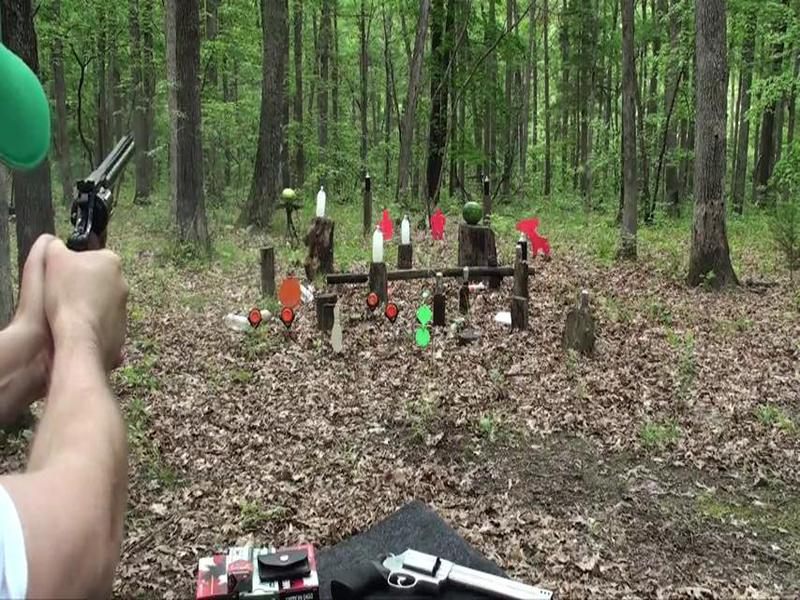Revolver: (56, 114, 146, 280)
